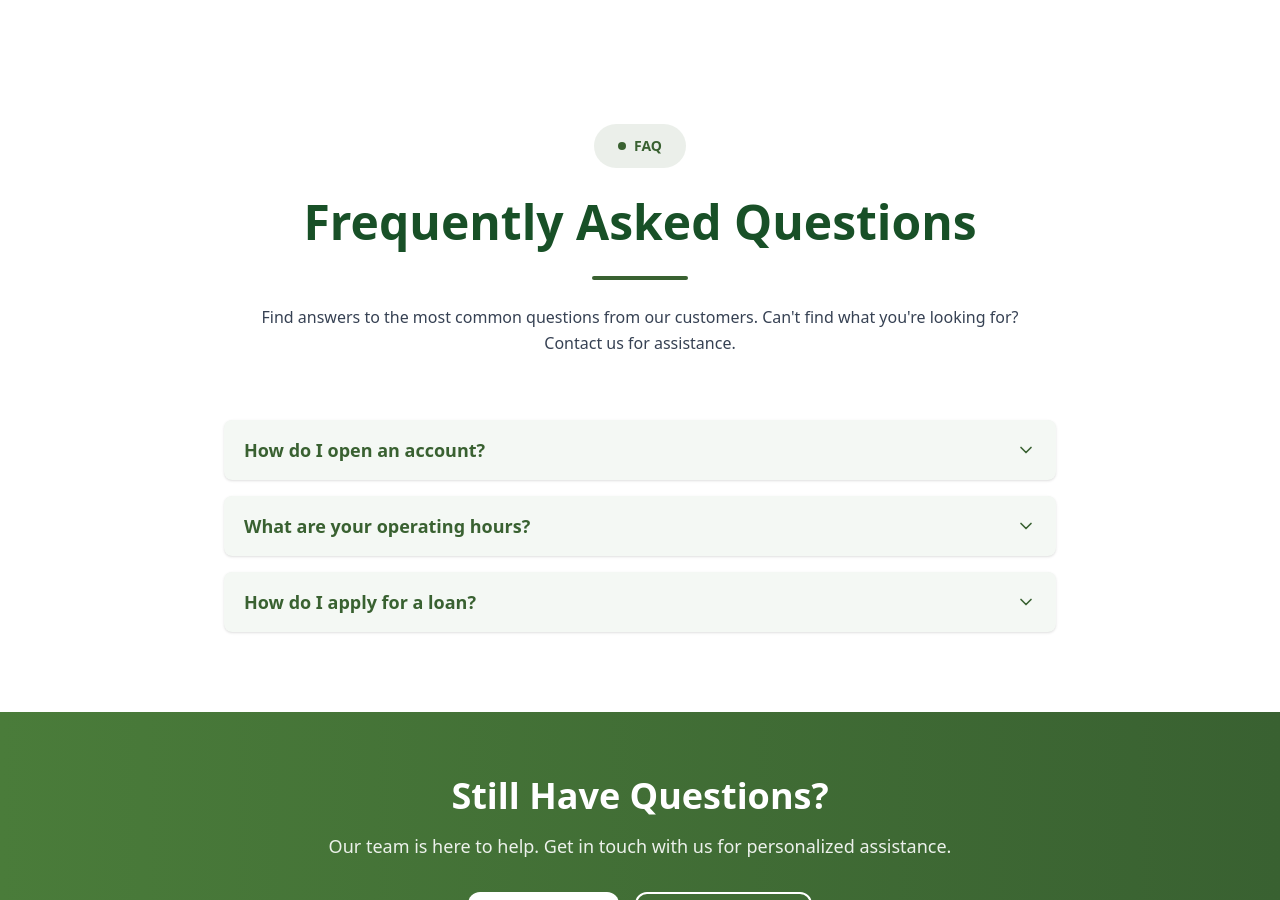
Test: FAQPage › FAQ Accordion Functionality › opens FAQ when clicked
The width and height of the screenshot is (1280, 900).
(page scrolled)
Check: the text "How do I open an account?" is shown, box [244,436,485,464]
Click the button "How do I open an account?": (365, 450) [224,420,1056,480]
(page scrolled)
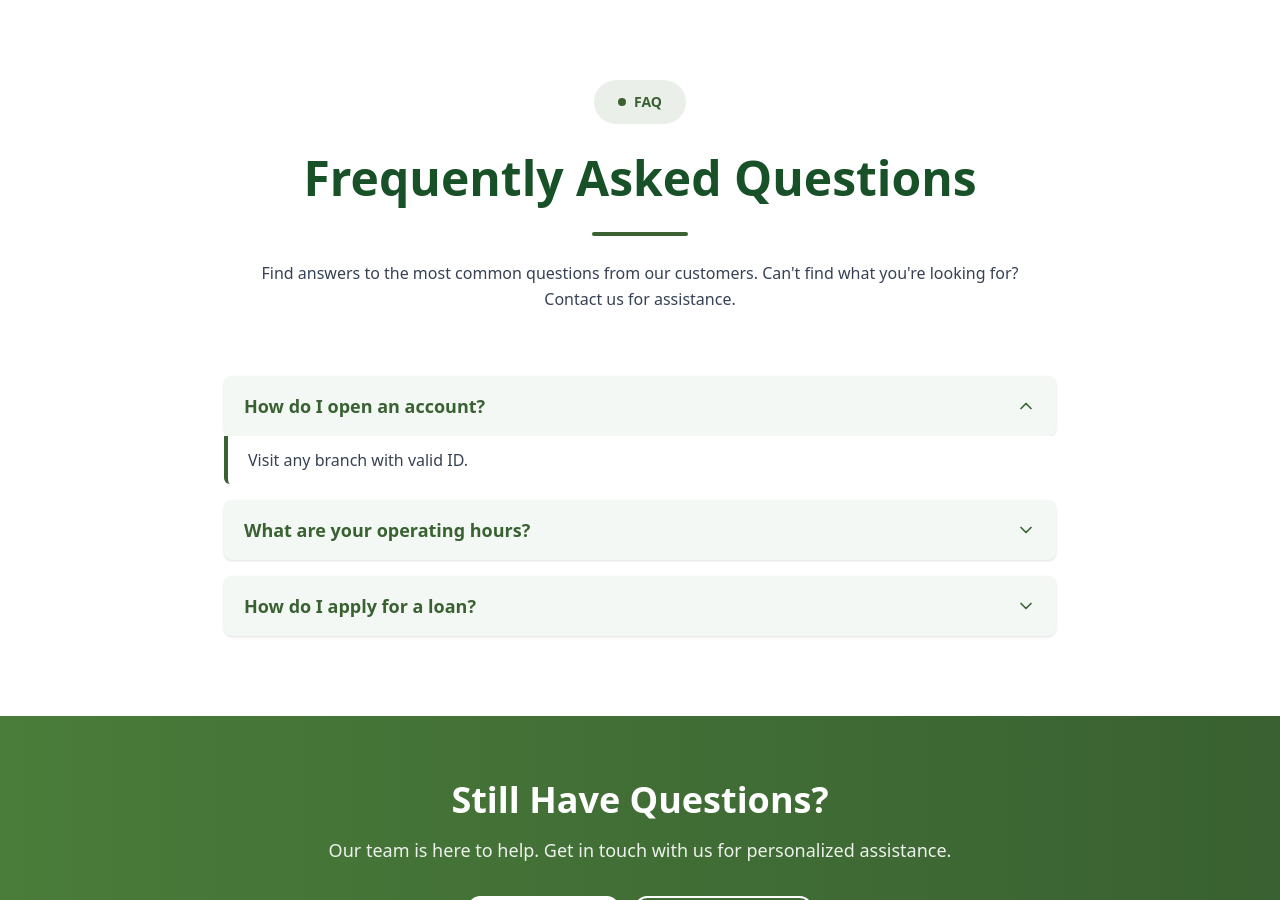
Check: the text "Visit any branch with valid ID." is shown, box [224,436,1056,484]
